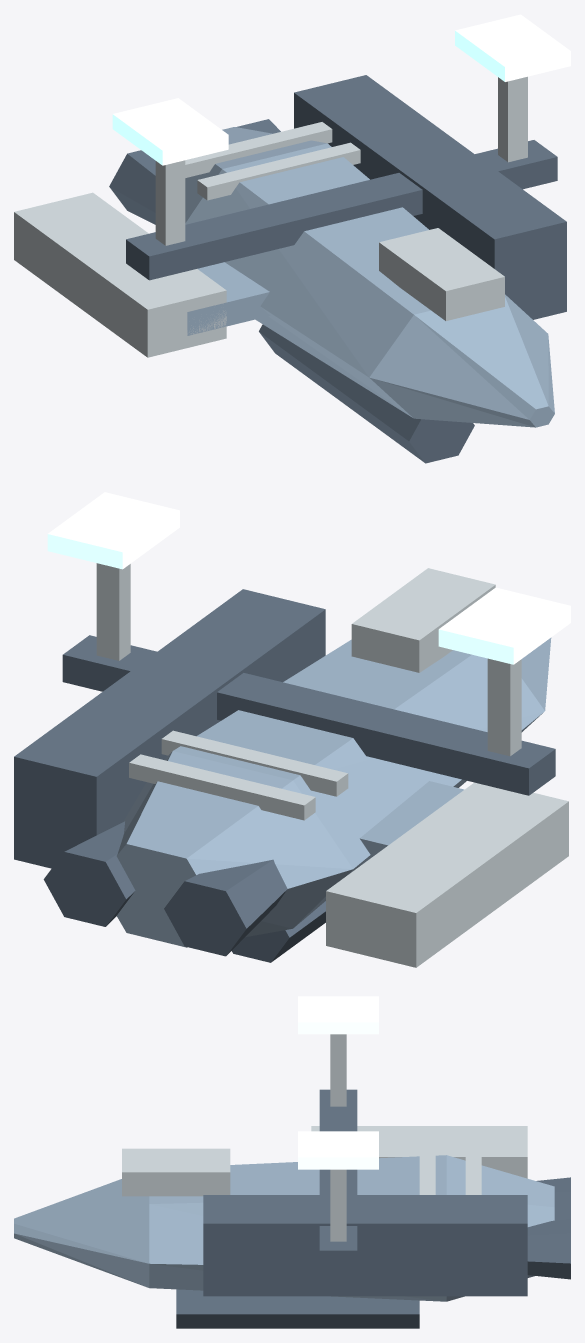
3 renders of one model, top to bottom at view 1: azimuth 30°, elevation 25°; view 2: azimuth 150°, elevation 25°; view 3: azimuth 270°, elevation 25°, orthographic. The views are drawn at different scales.
Bounding box in the file's own units: 2.92 × 2.04 × 4.2.
